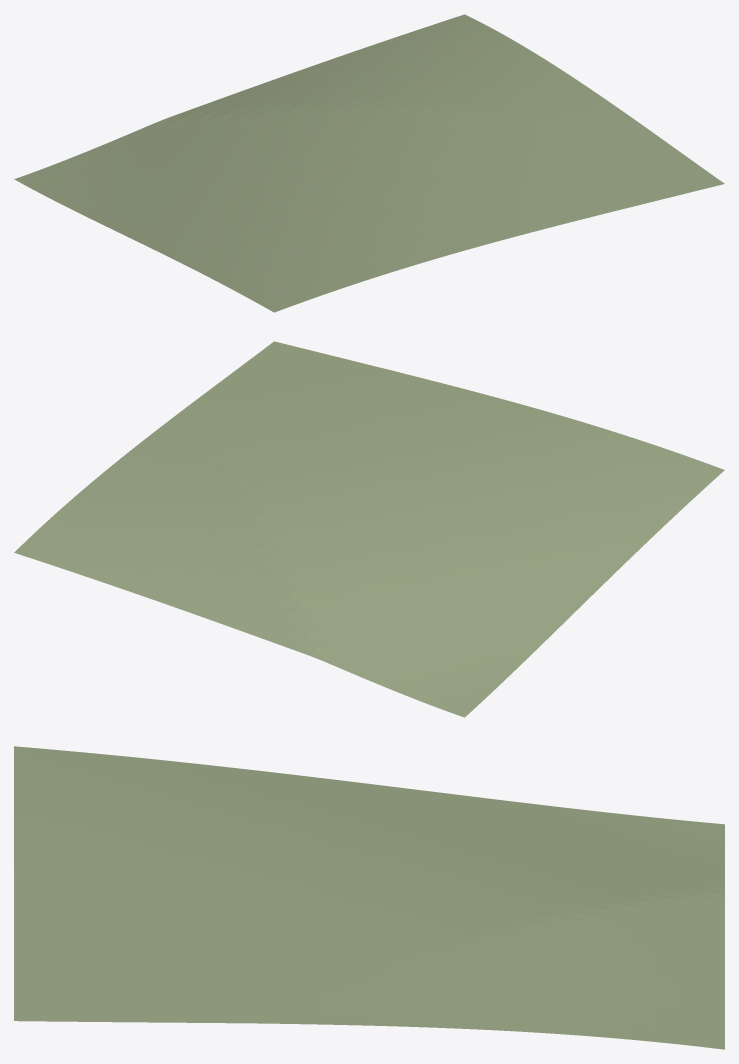
File: expanse-9-23.glb
The picture shows the model from 3 angles, top to bottom: view 1: azimuth 30°, elevation 25°; view 2: azimuth 150°, elevation 25°; view 3: azimuth 270°, elevation 25°; orthographic projection. The views are drawn at different scales.
Parts seen in each view (by area): view 1: expanse-9-23; view 2: expanse-9-23; view 3: expanse-9-23.
Part boxes in pixels (x1,y1,x2,y2): expanse-9-23: [14, 14, 724, 312]; expanse-9-23: [14, 341, 724, 717]; expanse-9-23: [14, 746, 724, 1049].
Size of the model in its own units: 256 by 41.19 by 256.
